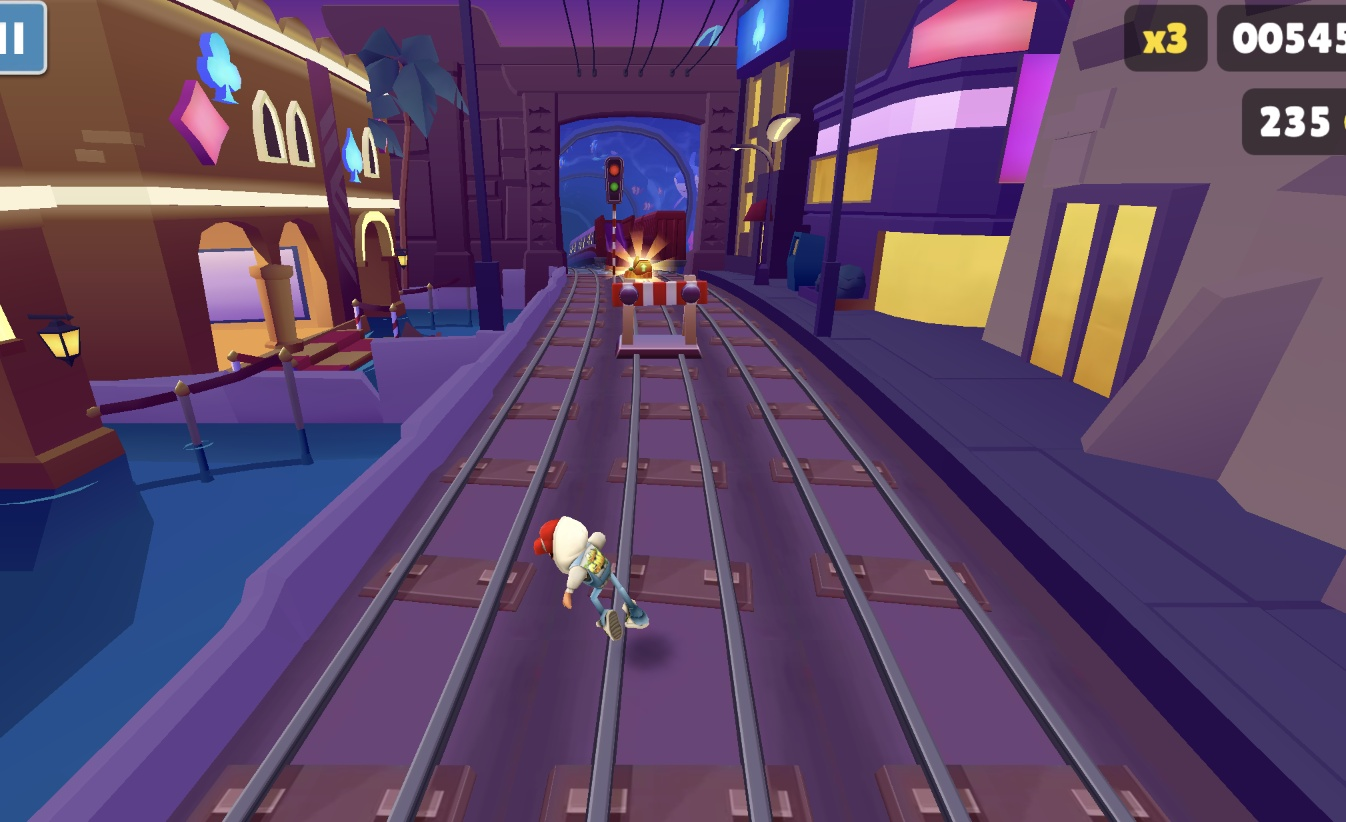ground_barrier: (610, 279, 710, 356)
train: (630, 211, 687, 271), (595, 216, 635, 273), (571, 225, 598, 266)
